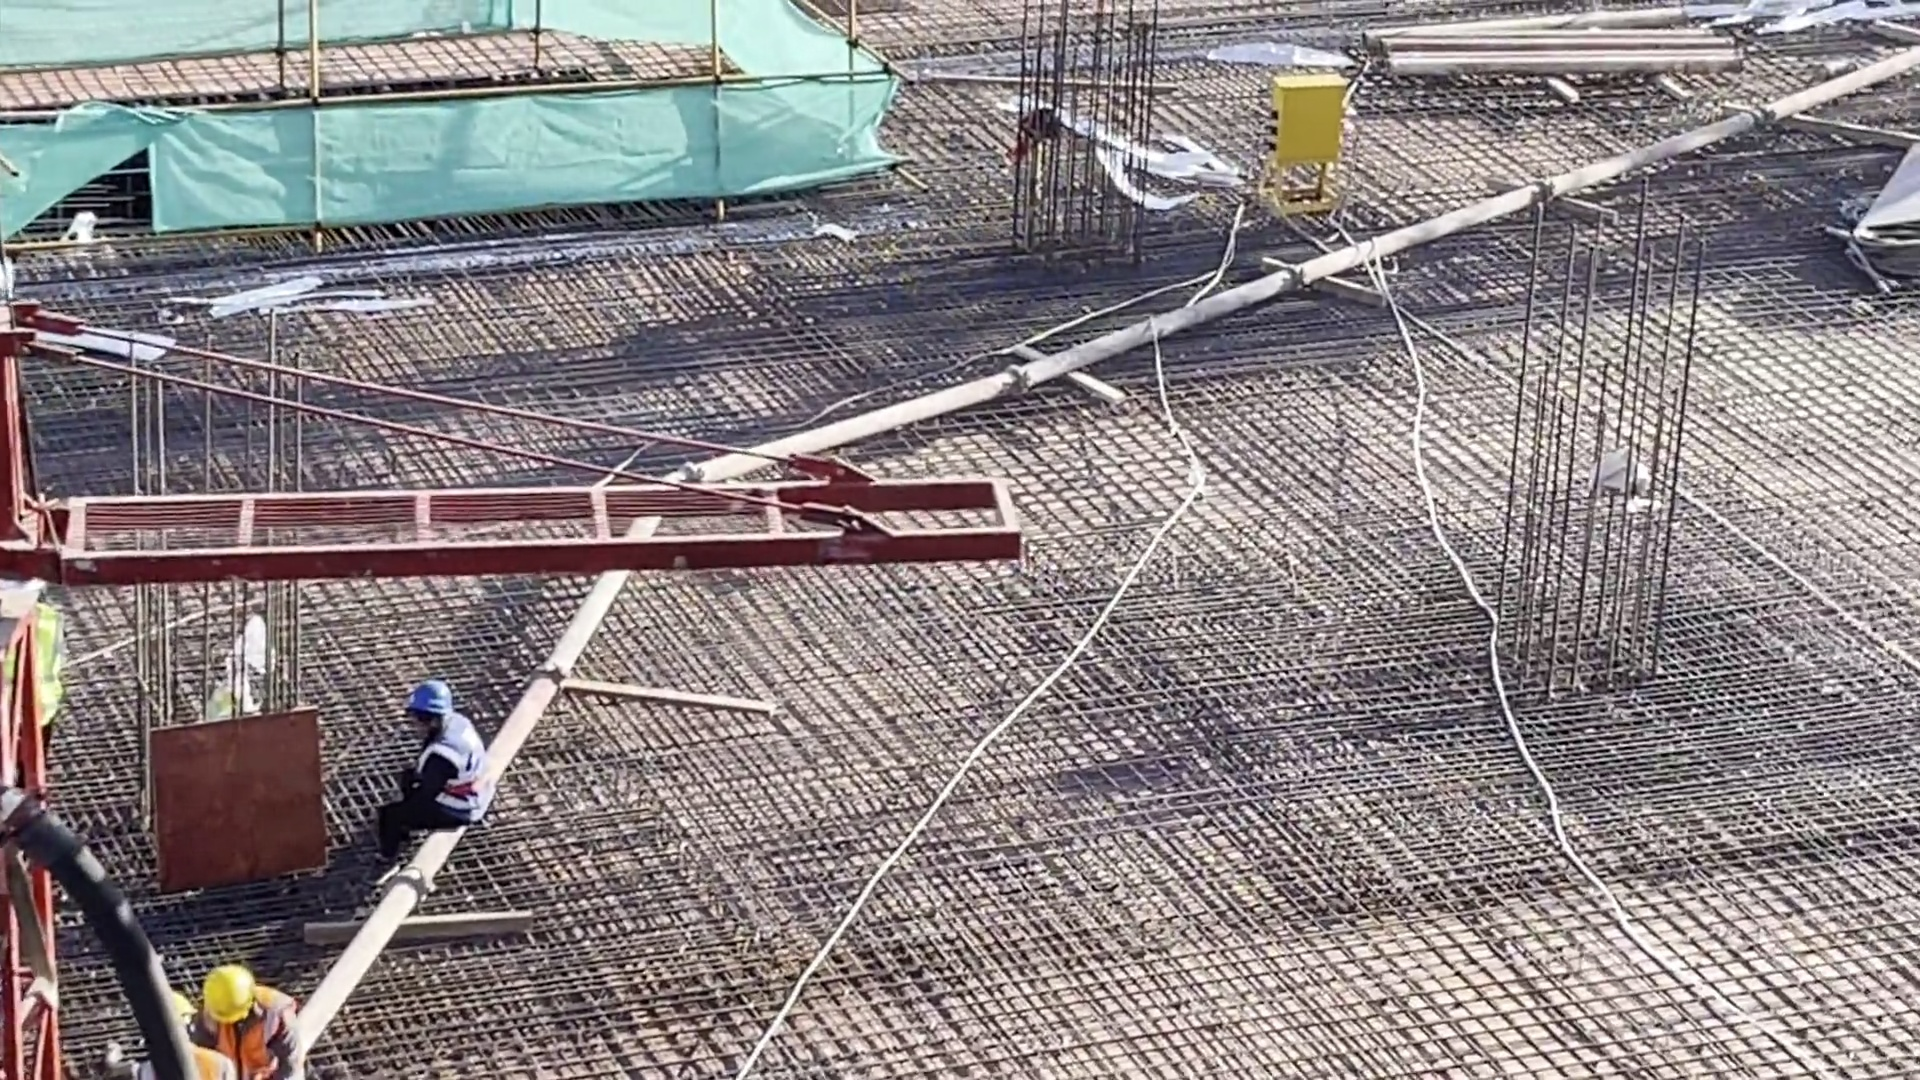ebox: (1263, 81, 1350, 170)
helmet: (199, 965, 256, 1021), (403, 674, 449, 714), (169, 1000, 200, 1026)
person: (377, 682, 492, 871), (1, 573, 89, 758), (192, 961, 307, 1080), (138, 994, 230, 1080)
vest: (211, 1002, 303, 1080), (1, 620, 67, 725), (420, 725, 489, 820), (159, 1043, 216, 1080)
